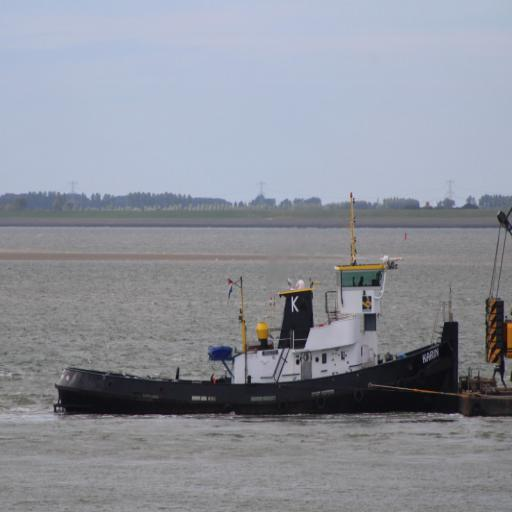tugboat: (49, 250, 465, 429)
